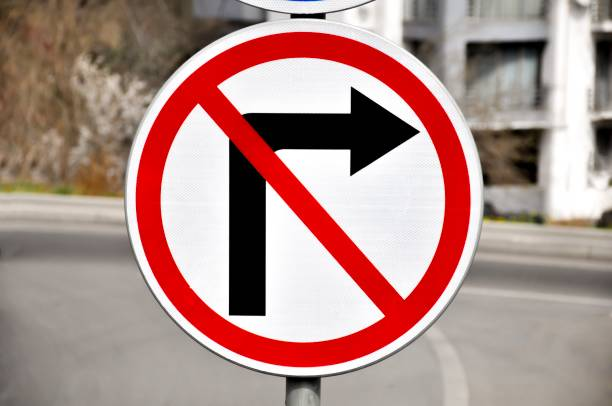saga_donulmez: (123, 17, 483, 371)
